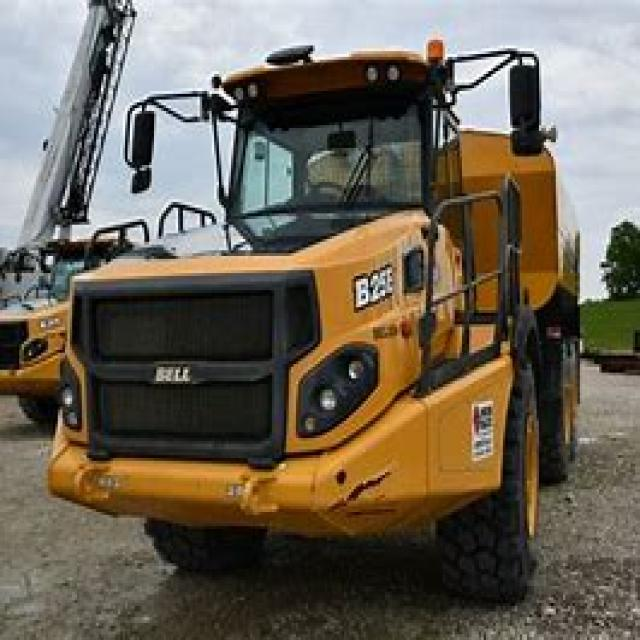dump_truck: (51, 26, 596, 600)
